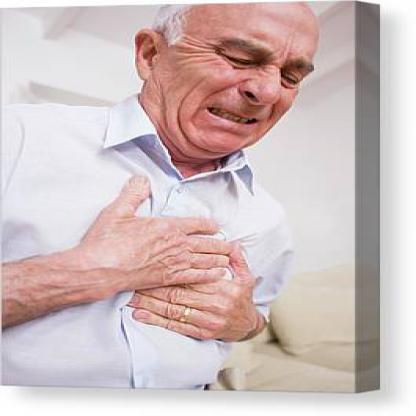pain: (201, 29, 323, 95)
